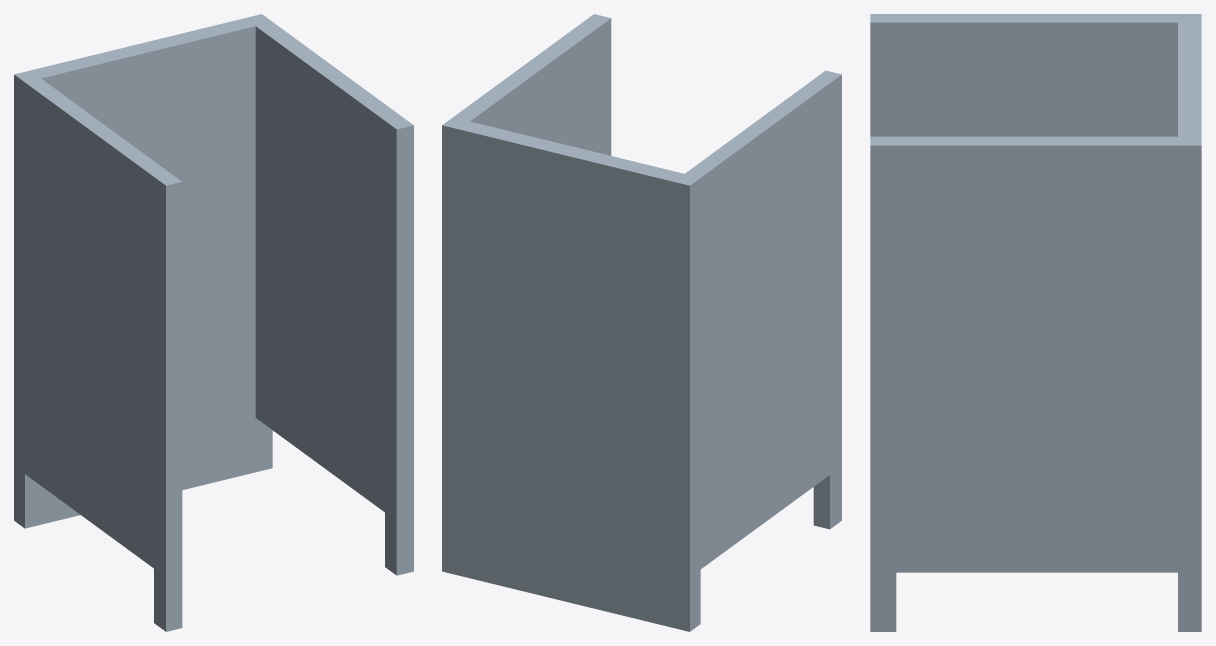
Rendered from Toilet_Booth.fbx.
3 renders of one model, left to right at view 1: azimuth 30°, elevation 25°; view 2: azimuth 150°, elevation 25°; view 3: azimuth 270°, elevation 25°, orthographic. The views are drawn at different scales.
Parts seen in each view (by area): view 1: Toilet_Booth; view 2: Toilet_Booth; view 3: Toilet_Booth.
Boxes of the visible parts, left/top/right/bottom form: Toilet_Booth: left=14, top=14, right=413, bottom=631; Toilet_Booth: left=442, top=14, right=841, bottom=631; Toilet_Booth: left=870, top=14, right=1201, bottom=631.
Bounding box in the file's own units: 404 × 694 × 429.
